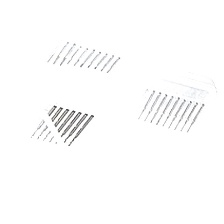plastic_box: (5, 88, 108, 210), (112, 58, 224, 162), (22, 14, 139, 96)
